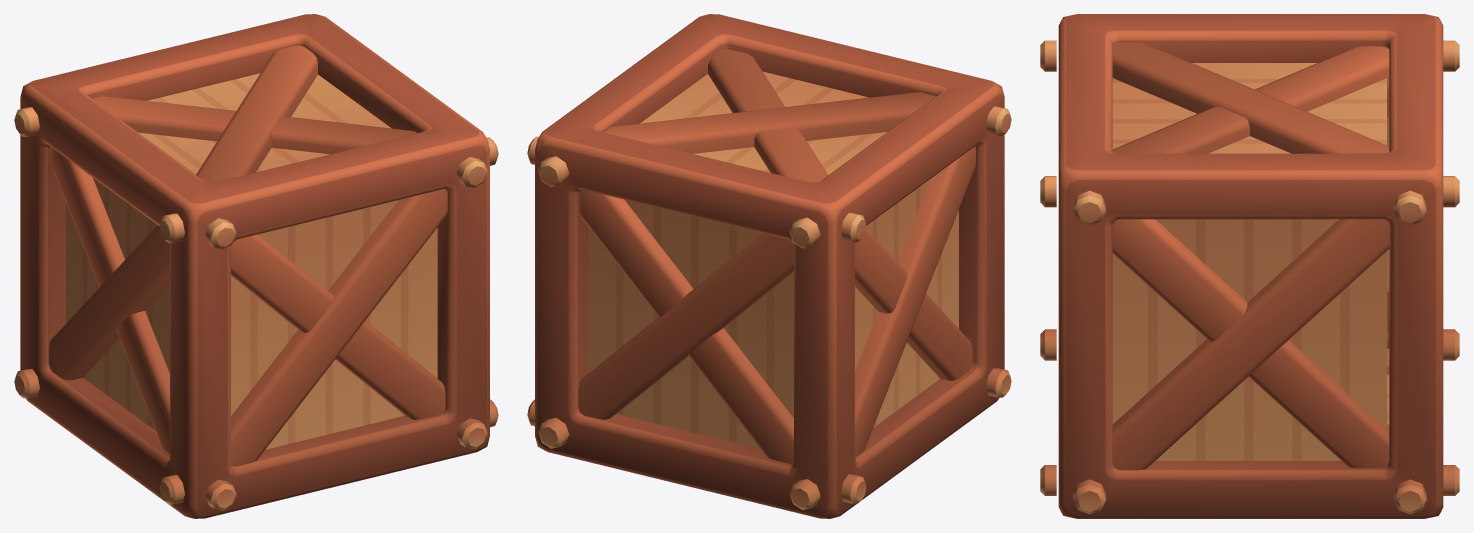
3 renders of one model, left to right at view 1: azimuth 30°, elevation 25°; view 2: azimuth 150°, elevation 25°; view 3: azimuth 270°, elevation 25°, orthographic. The views are drawn at different scales.
Visible parts, largest first — view 1: Box_V1_02; view 2: Box_V1_02; view 3: Box_V1_02.
Boxes of the visible parts, left/top/right/bottom form: Box_V1_02: left=14, top=14, right=498, bottom=518; Box_V1_02: left=527, top=14, right=1011, bottom=518; Box_V1_02: left=1040, top=14, right=1459, bottom=518.
Size of the model in its own units: 44.14 by 40.5 by 44.14.
